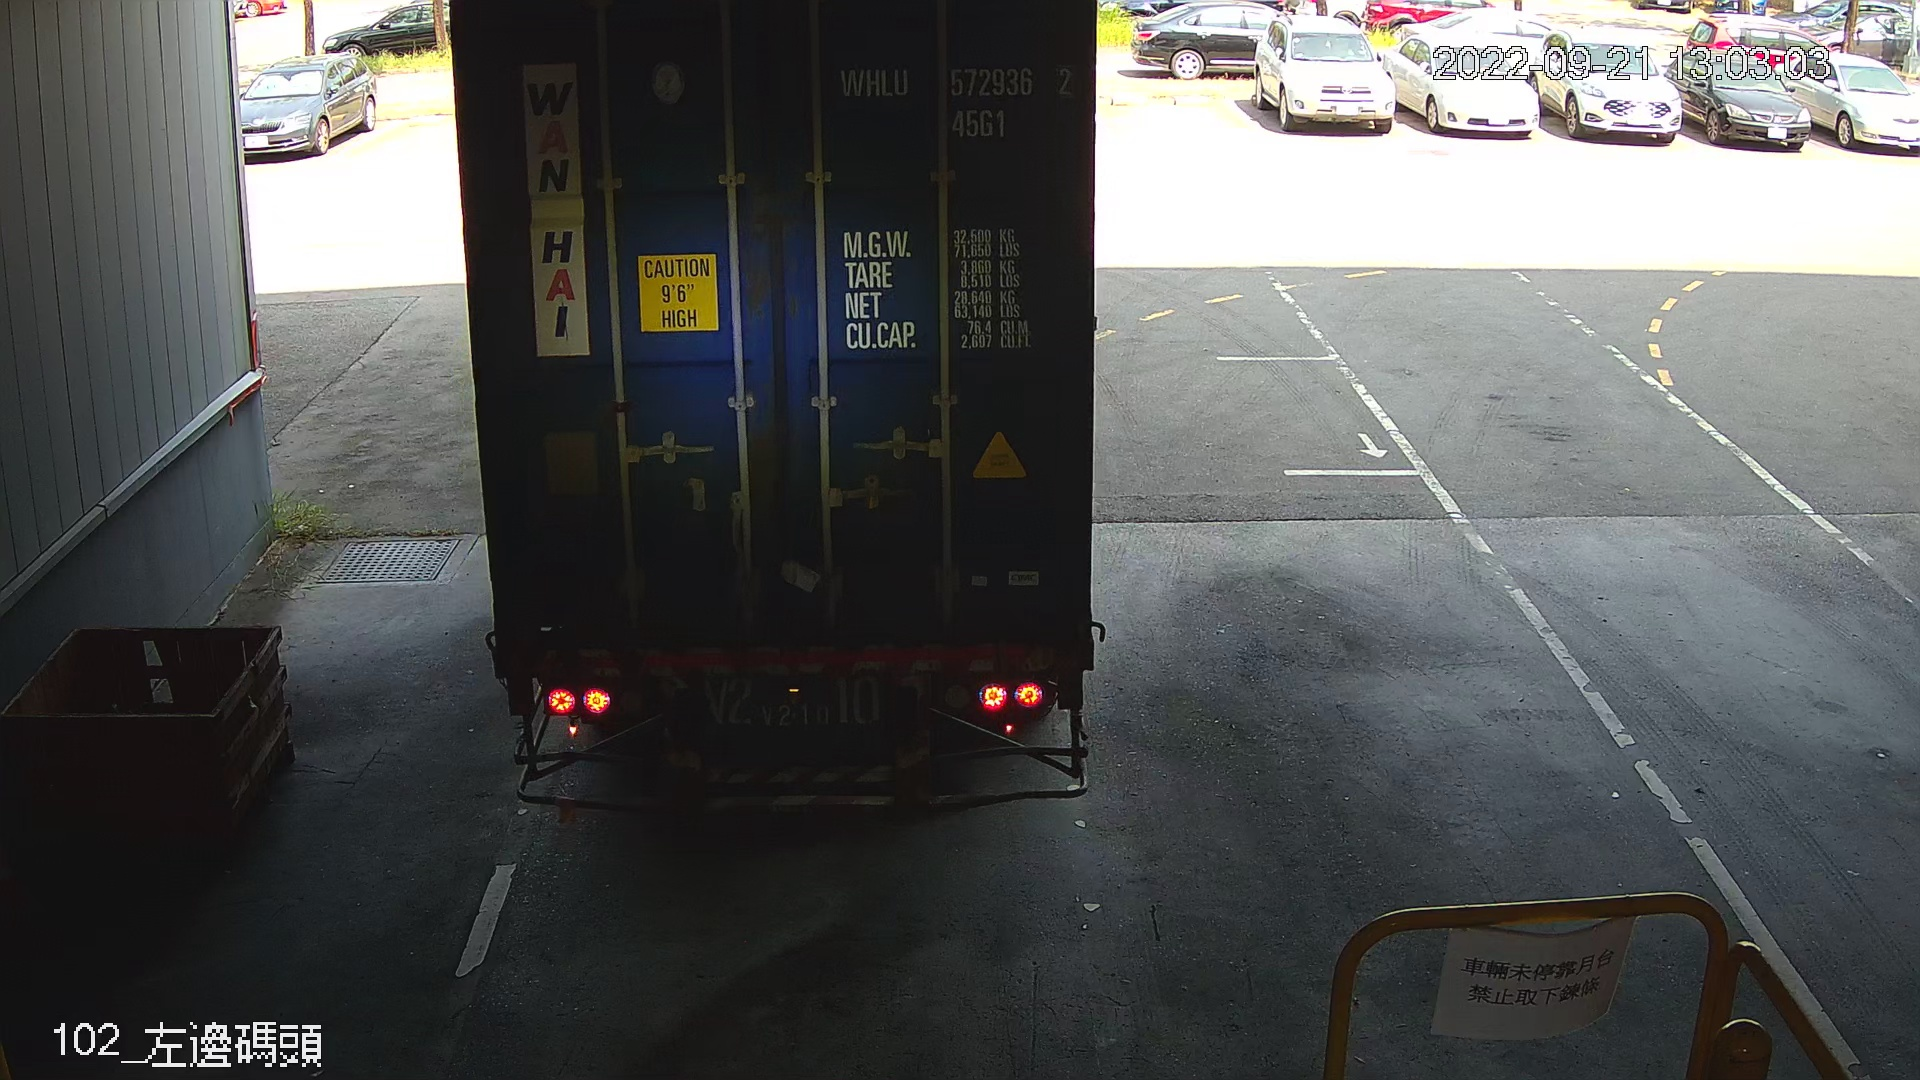container: (829, 54, 1083, 146)
